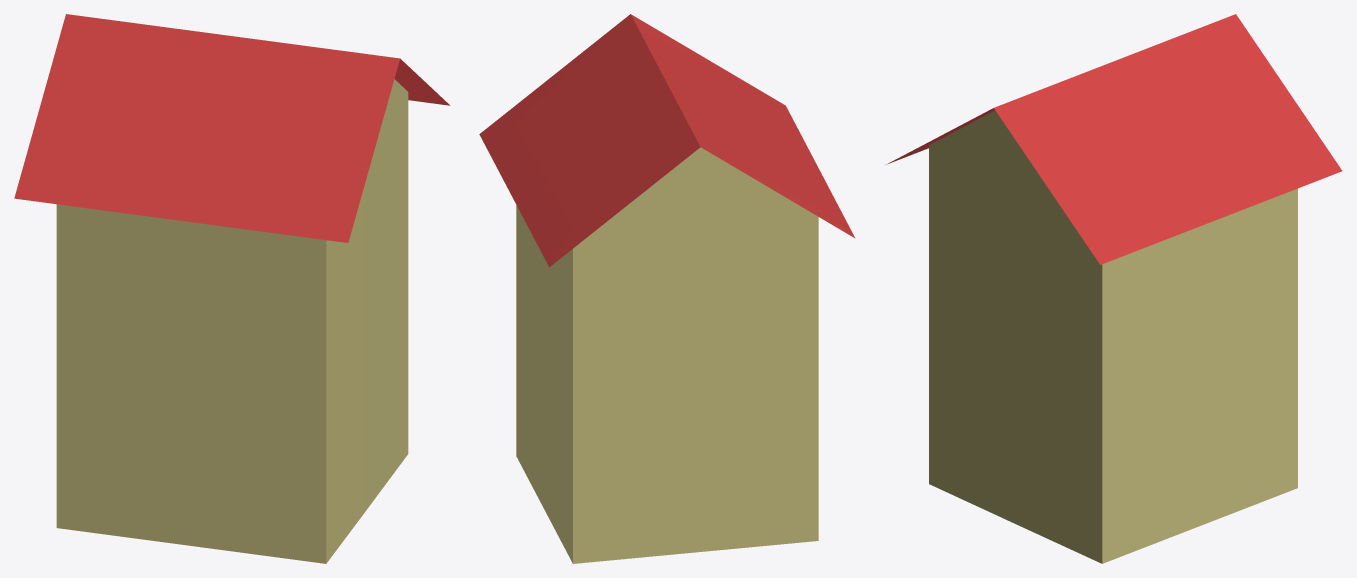
3 views of the same model, side by side, from view 1: azimuth 30°, elevation 25°; view 2: azimuth 150°, elevation 25°; view 3: azimuth 270°, elevation 25° (orthographic). The views are drawn at different scales.
Bounding box in the file's own units: 7.22 × 7.23 × 7.42.
